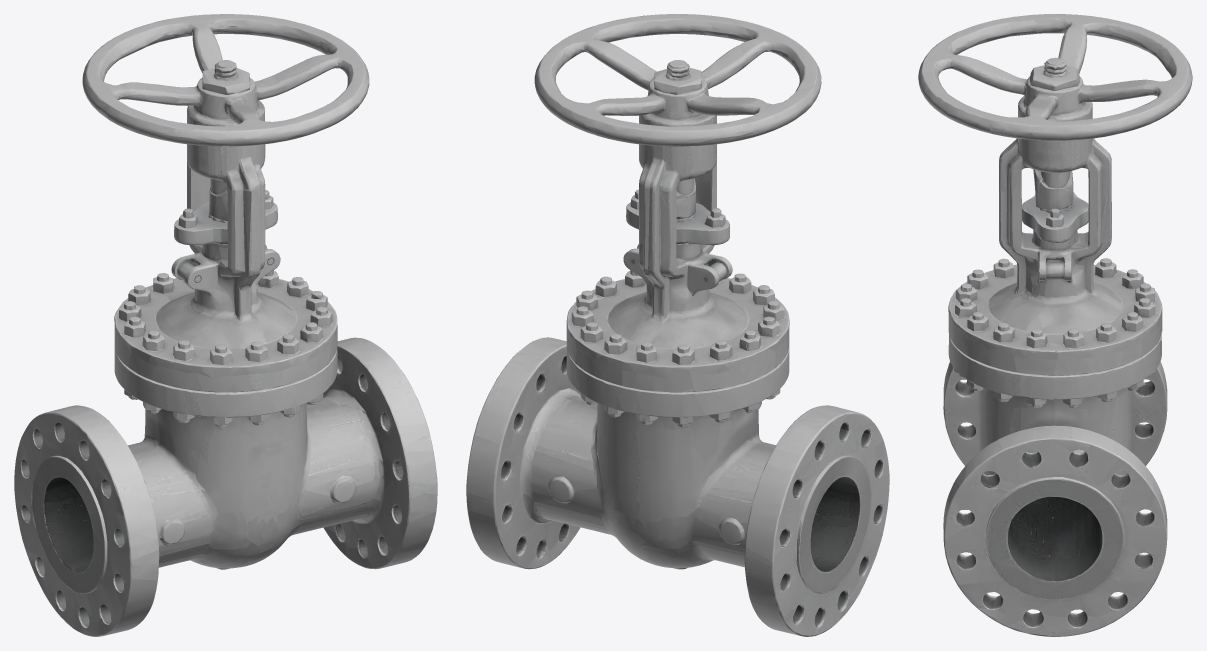
File: hero-valve.glb
The picture shows the model from 3 angles, left to right: view 1: azimuth 30°, elevation 25°; view 2: azimuth 150°, elevation 25°; view 3: azimuth 270°, elevation 25°; orthographic projection. The views are drawn at different scales.
Visible parts, largest first — view 1: Mesh_0; view 2: Mesh_0; view 3: Mesh_0.
Boxes of the visible parts, box(x1,y1,x2,y2) form: Mesh_0: box(14, 14, 437, 636); Mesh_0: box(466, 14, 889, 636); Mesh_0: box(918, 14, 1192, 636).
Bounding box in the file's own units: 1.19 × 1.9 × 0.937.
1 material, 1 textured.
